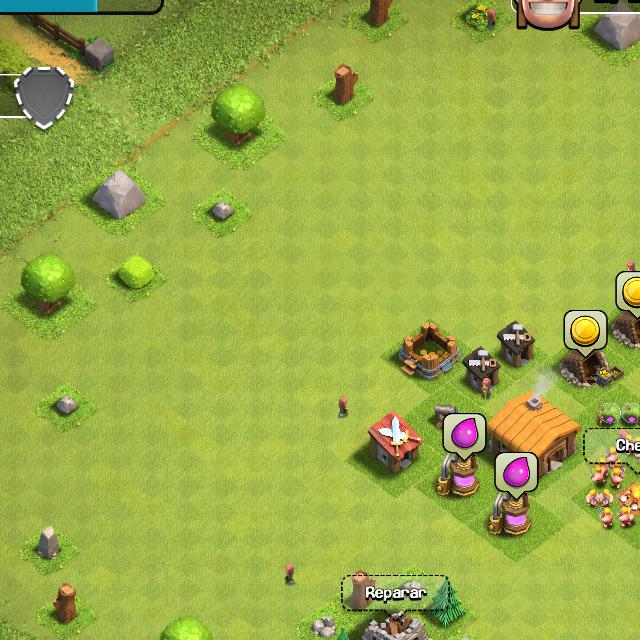Elixir: (443, 413, 487, 459), (494, 452, 538, 498)
coin: (562, 310, 610, 352), (616, 270, 640, 310)
